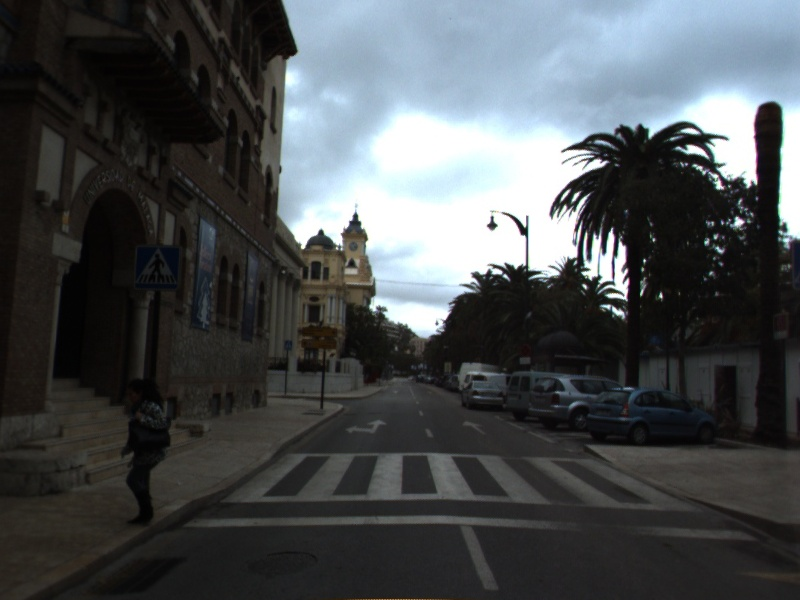STRAIGHT: (460, 418, 487, 436)
STRAIGHT_LEFT: (343, 417, 389, 436)
